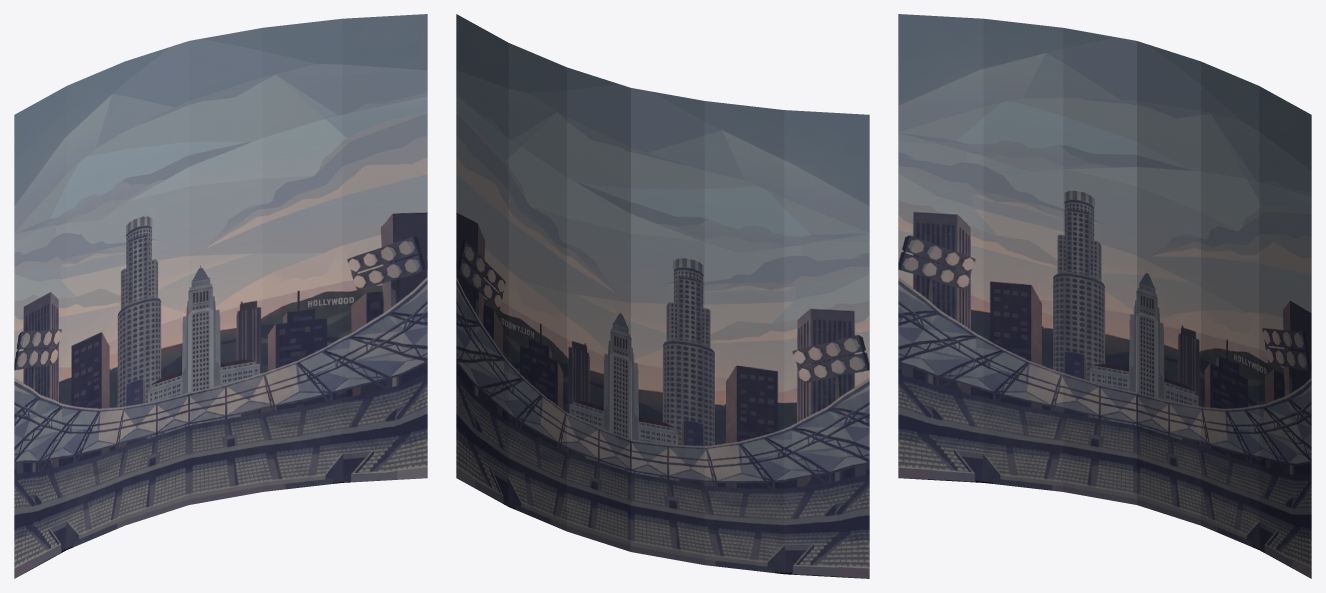
File: background.glb
3 renders of one model, left to right at view 1: azimuth 30°, elevation 25°; view 2: azimuth 150°, elevation 25°; view 3: azimuth 330°, elevation 25°, orthographic.
Parts seen in each view (by area): view 1: Plane.001; view 2: Plane.001; view 3: Plane.001.
Part boxes in pixels (box(x1,y1,x2,y2)): Plane.001: box(14, 14, 427, 578); Plane.001: box(456, 14, 869, 578); Plane.001: box(898, 14, 1311, 578).
Bounding box in the file's own units: 54.82 × 58.87 × 7.37.
1 material, 1 textured.
